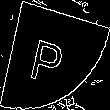P_N: (34, 25, 76, 85)
